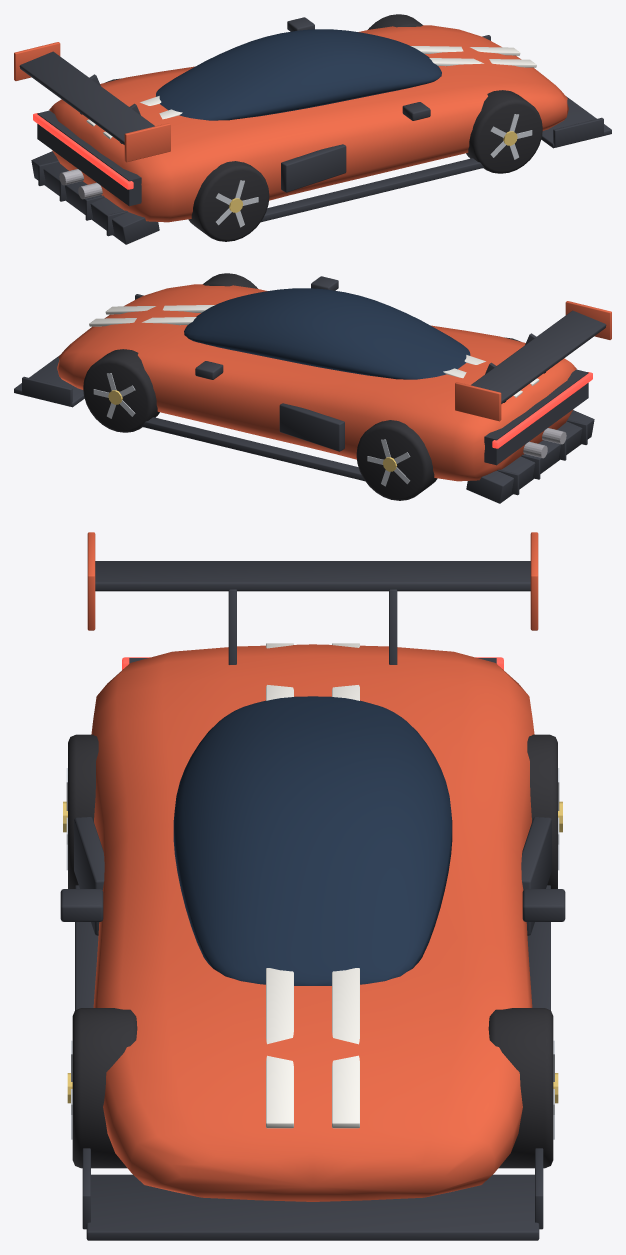
Rendered from vespera-gt7.glb.
3 renders of one model, top to bottom at view 1: azimuth 30°, elevation 25°; view 2: azimuth 150°, elevation 25°; view 3: azimuth 270°, elevation 25°, orthographic. The views are drawn at different scales.
Visible parts, largest first — view 1: Body_Main, Canopy, Rear_Wing_Foil, Wheel_RR_Tire, Wheel_FR_Tire, Skirt_R, Rear_Diffuser, Rear_Grille, Intake_R, Wing_Endplate_R, BrakeLight_Bar, Splitter_End_R (+8 smaller); view 2: Body_Main, Canopy, Rear_Wing_Foil, Wheel_RL_Tire, Wheel_FL_Tire, Skirt_L, Rear_Diffuser, Rear_Grille, Intake_L, Wing_Endplate_L, BrakeLight_Bar, Splitter_End_L (+8 smaller); view 3: Body_Main, Canopy, Front_Splitter, Rear_Wing_Foil, Wheel_FR_Tire, Wheel_FL_Tire, Stripe_Hood_L, Stripe_Hood_R, Wheel_RR_Tire, Wheel_RL_Tire, Intake_R, Intake_L (+4 smaller).
Part boxes in pixels (left/top/right/bottom): Body_Main: left=49, top=25, right=568, bottom=222; Canopy: left=156, top=29, right=441, bottom=120; Rear_Wing_Foil: left=19, top=51, right=154, bottom=144; Wheel_RR_Tire: left=188, top=161, right=269, bottom=241; Wheel_FR_Tire: left=466, top=90, right=542, bottom=173; Skirt_R: left=261, top=158, right=484, bottom=222; Rear_Diffuser: left=31, top=151, right=159, bottom=244; Rear_Grille: left=37, top=110, right=141, bottom=206; Intake_R: left=281, top=144, right=346, bottom=192; Wing_Endplate_R: left=124, top=123, right=170, bottom=162; BrakeLight_Bar: left=33, top=113, right=133, bottom=189; Splitter_End_R: left=553, top=117, right=603, bottom=147; Body_Main: left=57, top=284, right=576, bottom=481; Canopy: left=184, top=288, right=470, bottom=379; Rear_Wing_Foil: left=471, top=310, right=606, bottom=403; Wheel_RL_Tire: left=356, top=420, right=437, bottom=500; Wheel_FL_Tire: left=83, top=349, right=159, bottom=432; Skirt_L: left=141, top=417, right=364, bottom=481; Rear_Diffuser: left=466, top=410, right=594, bottom=503; Rear_Grille: left=484, top=369, right=588, bottom=465; Intake_L: left=279, top=403, right=344, bottom=451; Wing_Endplate_L: left=455, top=382, right=501, bottom=421; BrakeLight_Bar: left=492, top=372, right=592, bottom=448; Splitter_End_L: left=22, top=376, right=72, bottom=406; Body_Main: left=91, top=644, right=534, bottom=1201; Canopy: left=173, top=696, right=452, bottom=985; Front_Splitter: left=86, top=1174, right=539, bottom=1240; Rear_Wing_Foil: left=95, top=561, right=530, bottom=591; Wheel_FR_Tire: left=72, top=1008, right=137, bottom=1168; Wheel_FL_Tire: left=488, top=1008, right=553, bottom=1168; Stripe_Hood_L: left=332, top=968, right=359, bottom=1128; Stripe_Hood_R: left=266, top=968, right=293, bottom=1128; Wheel_RR_Tire: left=68, top=734, right=98, bottom=888; Wheel_RL_Tire: left=527, top=734, right=557, bottom=888; Intake_R: left=74, top=817, right=104, bottom=935; Intake_L: left=521, top=817, right=551, bottom=935.
Bounding box in the file's own units: 4.76 × 1.21 × 2.14.
